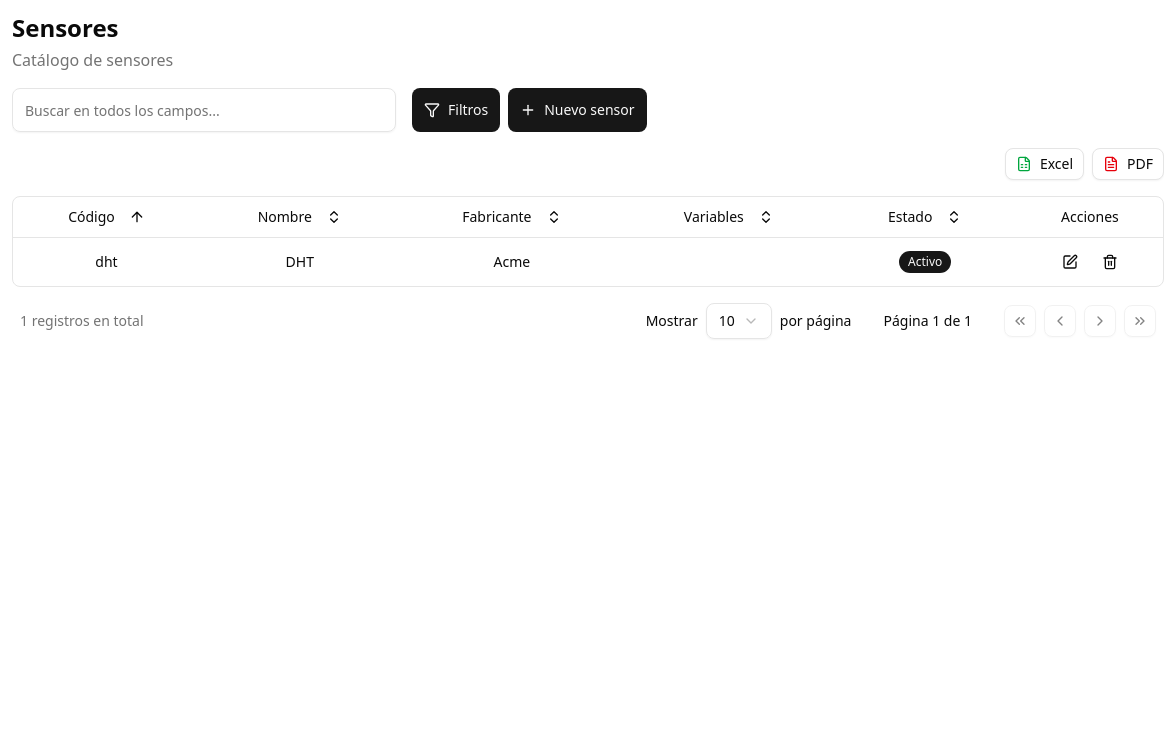
Test: catalog lists › uses specific create labels, icon actions and sensor filters
Check: the link named "Editar sensor" is shown, box left=1062, top=254, right=1078, bottom=270
Check: the button named "Desactivar sensor" is shown, box left=1094, top=246, right=1126, bottom=278
Click the button "Filtros": (456, 110) left=412, top=88, right=500, bottom=132
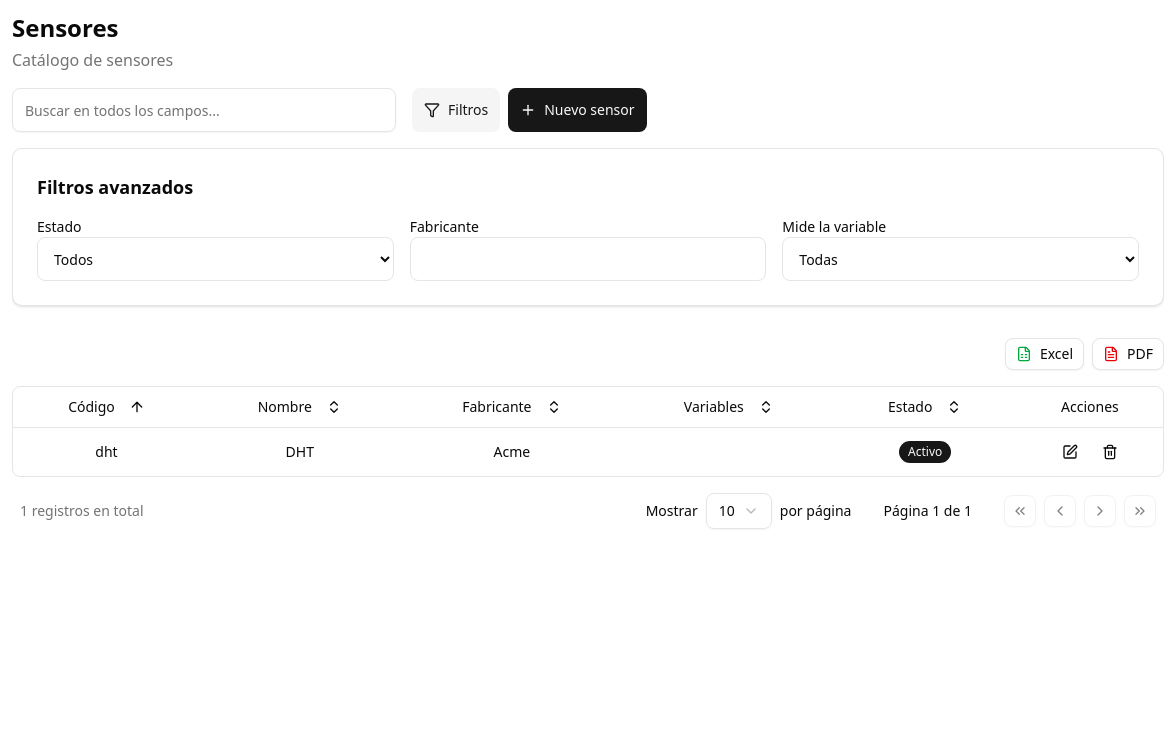
Check: the field labelled "Fabricante" is shown, box left=410, top=237, right=766, bottom=281
Check: the dropdown labelled "Mide la variable" is shown, box left=782, top=237, right=1139, bottom=281
